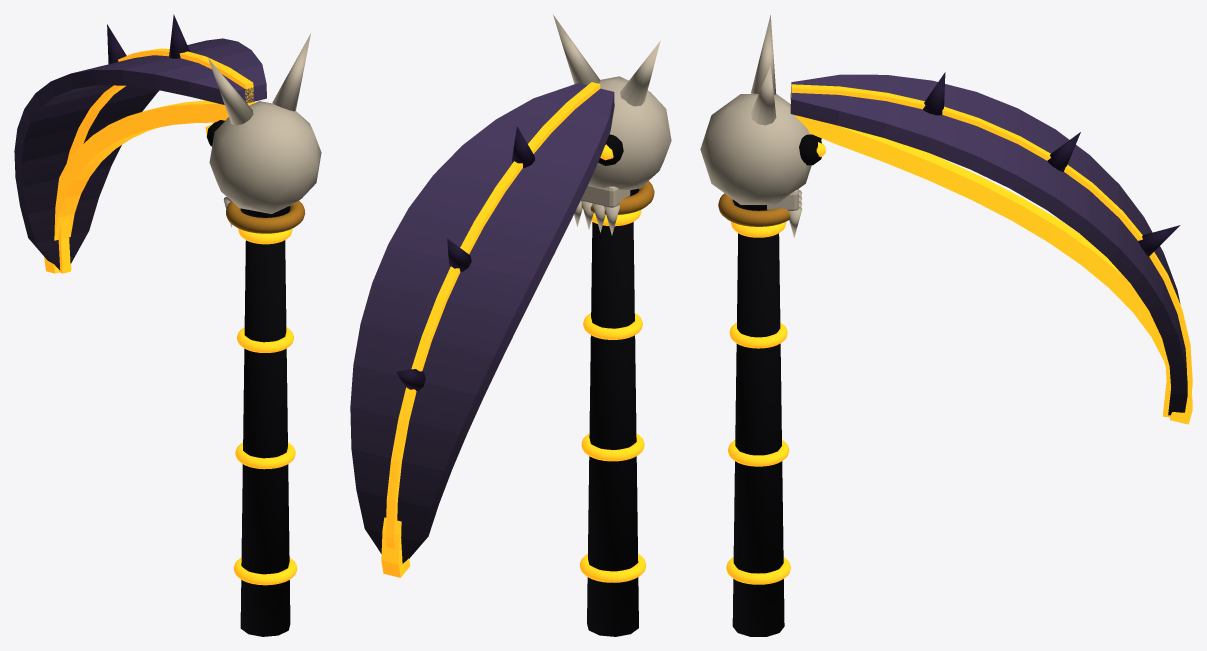
File: Reaper.glb
The picture shows the model from 3 angles, left to right: view 1: azimuth 30°, elevation 25°; view 2: azimuth 150°, elevation 25°; view 3: azimuth 270°, elevation 25°; orthographic projection. The views are drawn at different scales.
Visible parts, largest first — view 1: Body, Accent_Glow; view 2: Body, Accent_Glow; view 3: Body, Accent_Glow.
Boxes of the visible parts, left/top/right/bottom form: Body: left=14, top=14, right=321, bottom=636; Accent_Glow: left=44, top=48, right=297, bottom=585; Body: left=350, top=14, right=671, bottom=636; Accent_Glow: left=381, top=82, right=646, bottom=582; Body: left=700, top=15, right=1187, bottom=636; Accent_Glow: left=726, top=84, right=1192, bottom=584.
Size of the model in its own units: 0.9998 by 4 by 3.04.
